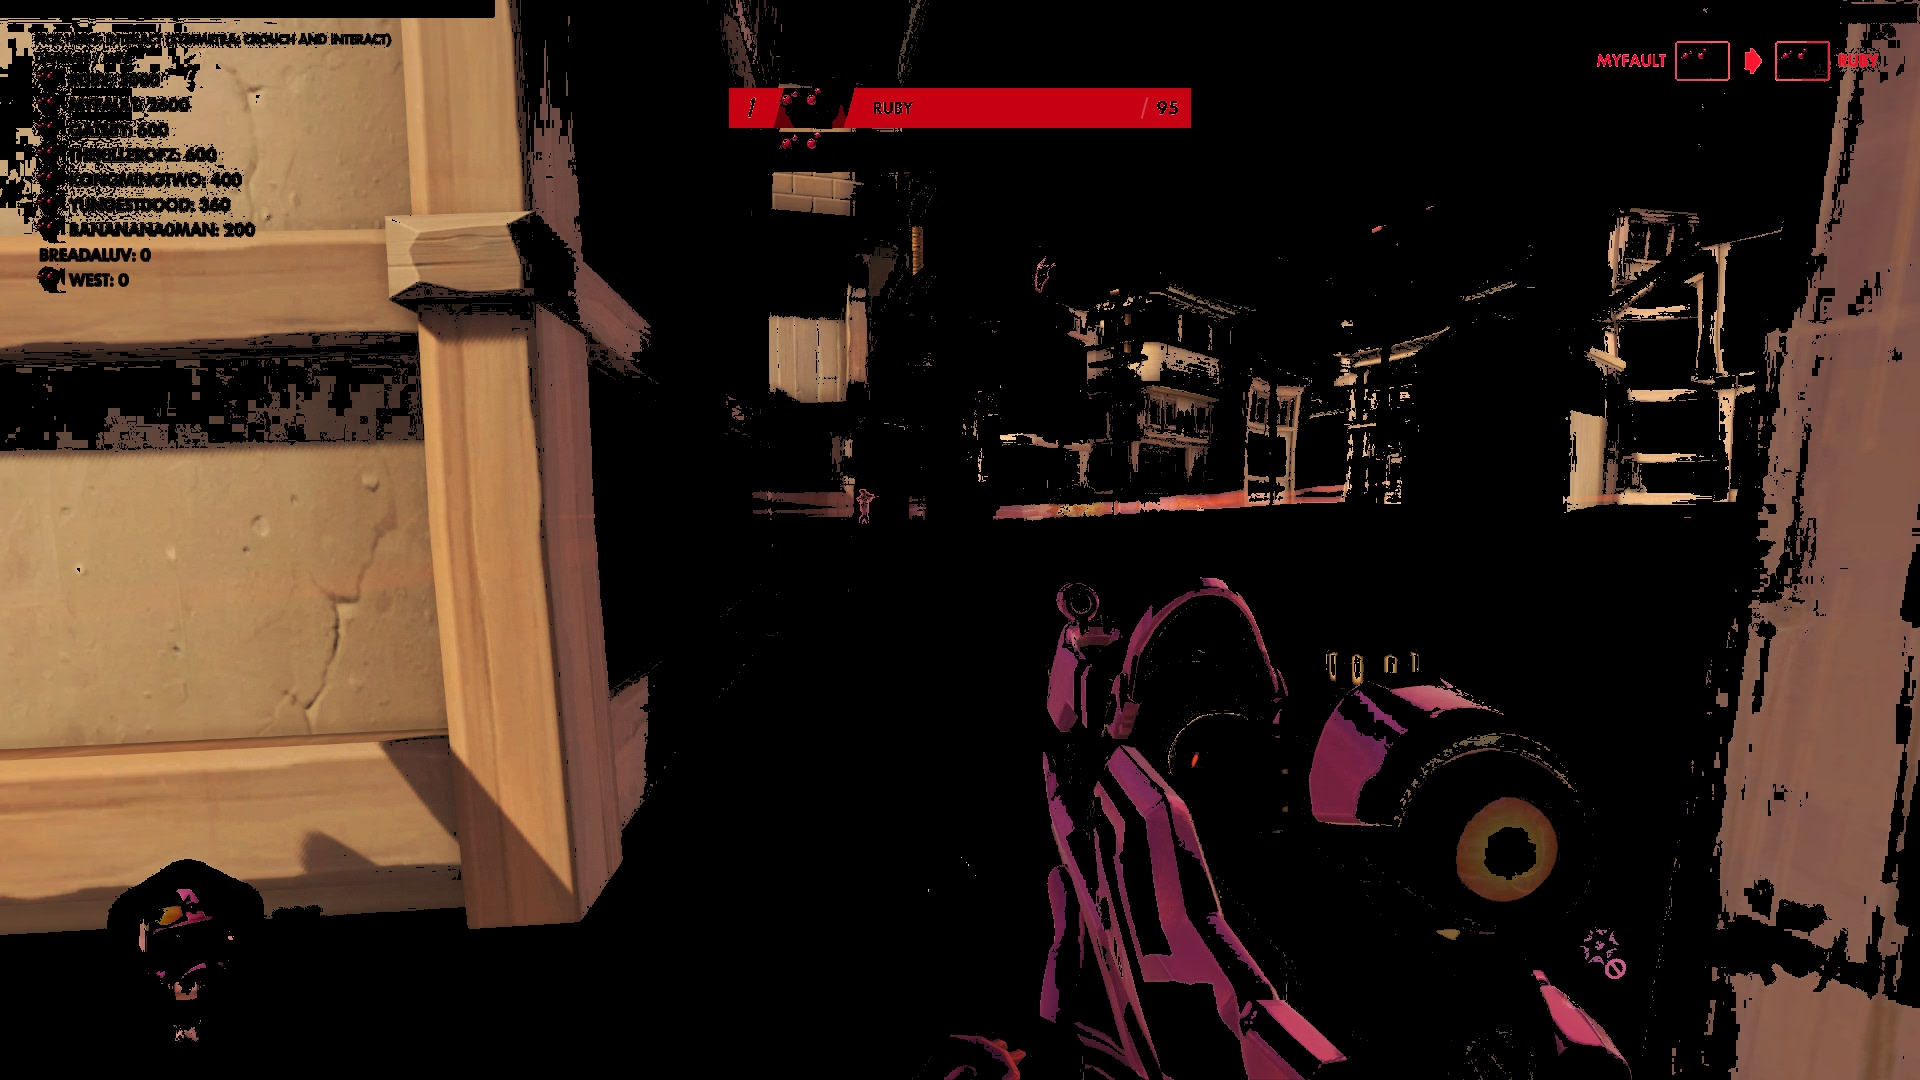widowmaker: (855, 484, 882, 529)
